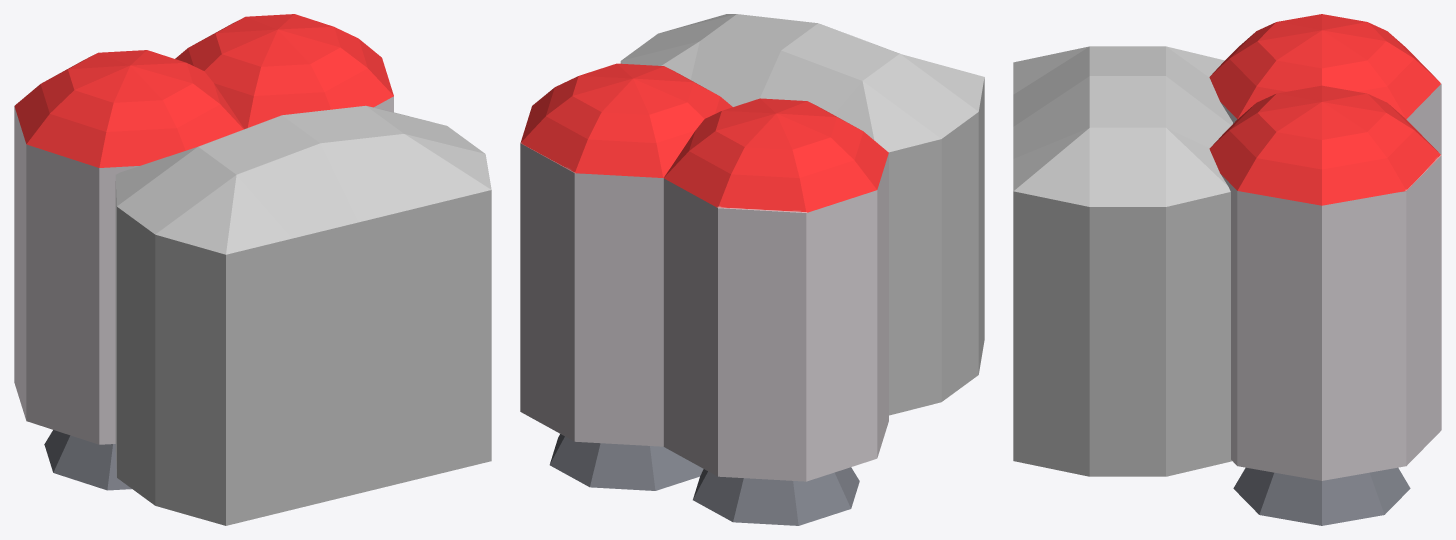
The model's file is jetpack.fbx.
3 renders of one model, left to right at view 1: azimuth 30°, elevation 25°; view 2: azimuth 150°, elevation 25°; view 3: azimuth 270°, elevation 25°, orthographic. The views are drawn at different scales.
Parts seen in each view (by area): view 1: Cube, Cylinder.001; view 2: Cylinder.001, Cube; view 3: Cylinder.001, Cube.
Boxes of the visible parts, <box> form: Cube: <box>115,105,491,525</box>; Cylinder.001: <box>14,14,393,490</box>; Cylinder.001: <box>520,63,888,525</box>; Cube: <box>620,14,984,415</box>; Cylinder.001: <box>1209,14,1441,525</box>; Cube: <box>1013,46,1232,476</box>.
Size of the model in its own units: 275 by 287 by 288.
